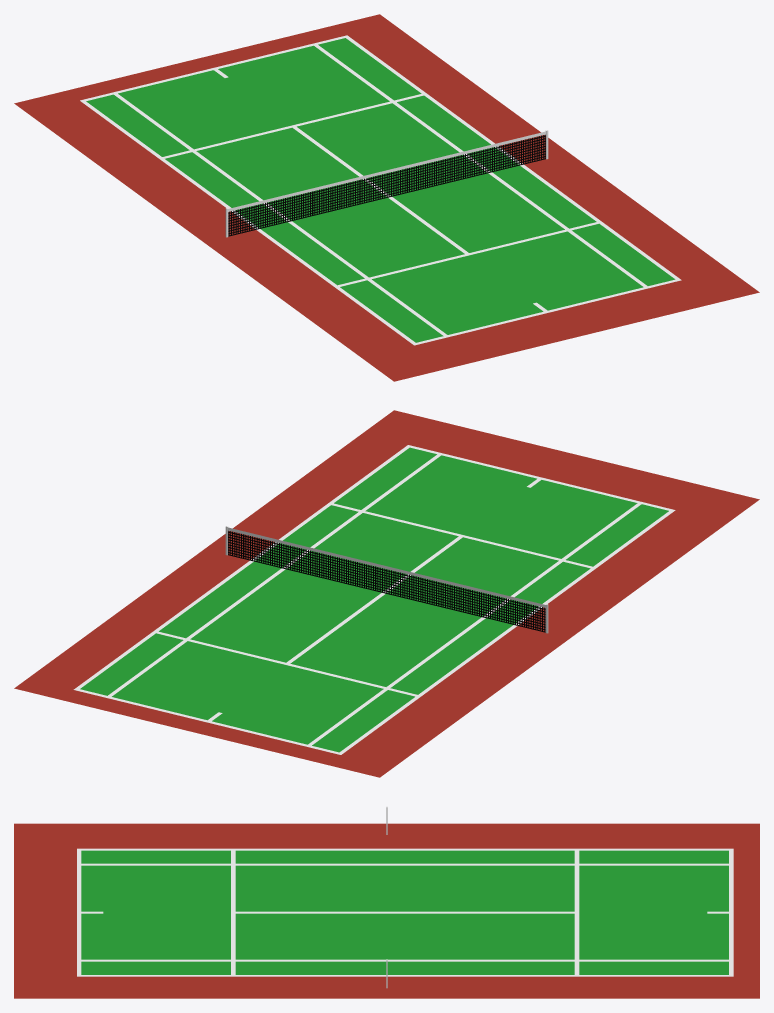
The model's file is Tennis_court.fbx.
3 views of the same model, one above another, from view 1: azimuth 30°, elevation 25°; view 2: azimuth 150°, elevation 25°; view 3: azimuth 270°, elevation 25° (orthographic).
Parts seen in each view (by area): view 1: Tennis_court; view 2: Tennis_court; view 3: Tennis_court.
Part boxes in pixels (<box>): Tennis_court: <box>14,14,759,381</box>; Tennis_court: <box>14,410,759,777</box>; Tennis_court: <box>14,806,759,998</box>.
Size of the model in its own units: 1500 by 112 by 2700.
